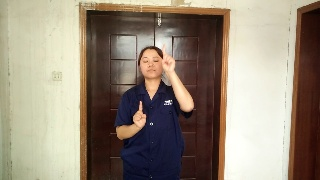hand: (161, 44, 175, 72), (132, 100, 146, 128)
